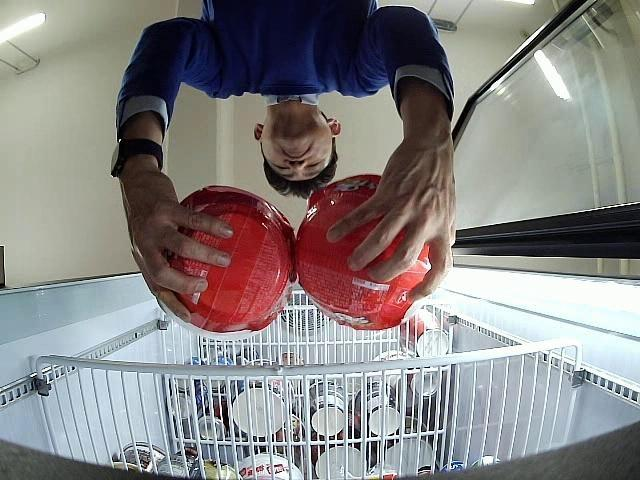10_wangTtukkeong: (156, 186, 298, 340), (299, 174, 431, 330)
